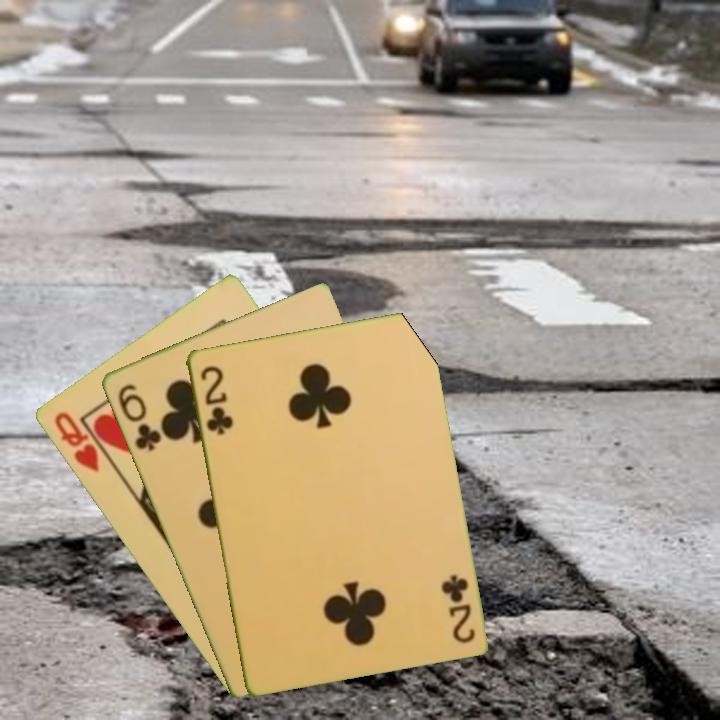2c: (196, 361, 236, 438), (438, 570, 477, 646)
6c: (114, 380, 164, 454)
Qh: (50, 408, 115, 475)
